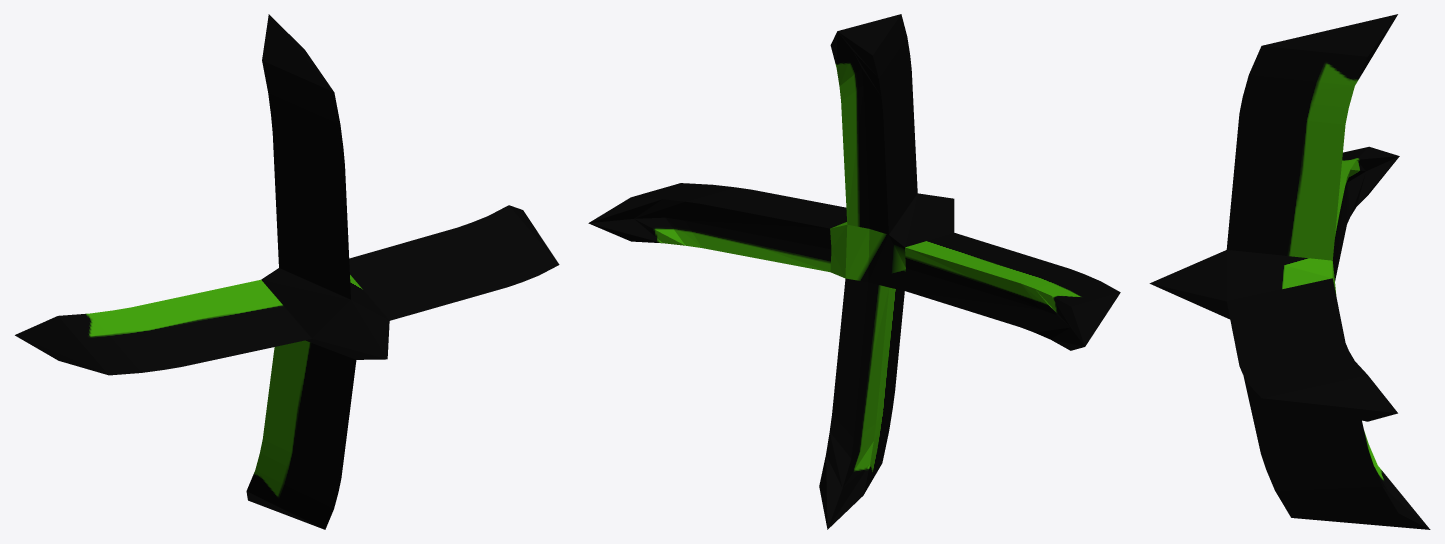
Rendered from blades.obj.
The picture shows the model from 3 angles, left to right: view 1: azimuth 30°, elevation 25°; view 2: azimuth 150°, elevation 25°; view 3: azimuth 270°, elevation 25°; orthographic projection. The views are drawn at different scales.
Size of the model in its own units: 18.43 by 17.22 by 8.46.
1 material, 1 textured.
